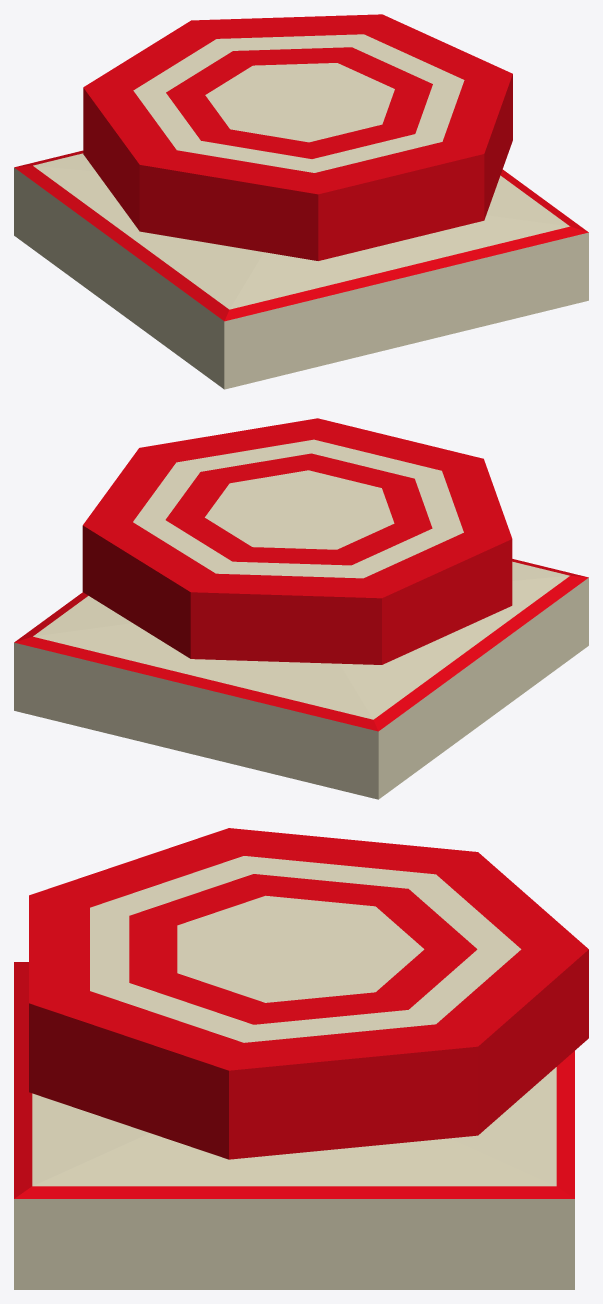
The model's file is SpringBoard.fbx.
The picture shows the model from 3 angles, top to bottom: view 1: azimuth 30°, elevation 25°; view 2: azimuth 150°, elevation 25°; view 3: azimuth 270°, elevation 25°; orthographic projection. The views are drawn at different scales.
Visible parts, largest first — view 1: SpringBoard; view 2: SpringBoard; view 3: SpringBoard.
Boxes of the visible parts, x1,y1,x2,y2 form: SpringBoard: [14, 14, 588, 389]; SpringBoard: [14, 418, 588, 799]; SpringBoard: [14, 828, 588, 1289].
Bounding box in the file's own units: 205 × 87.43 × 205.
